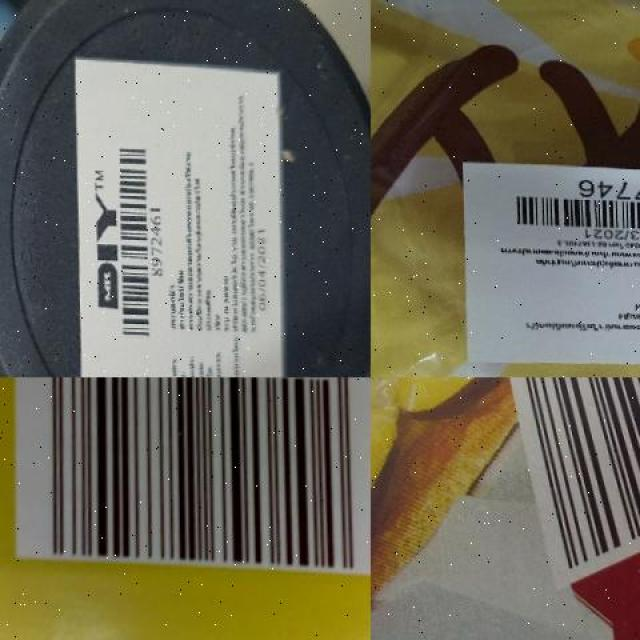Barcode: (7, 377, 370, 572), (492, 377, 640, 595), (110, 125, 162, 347), (500, 169, 640, 235)
